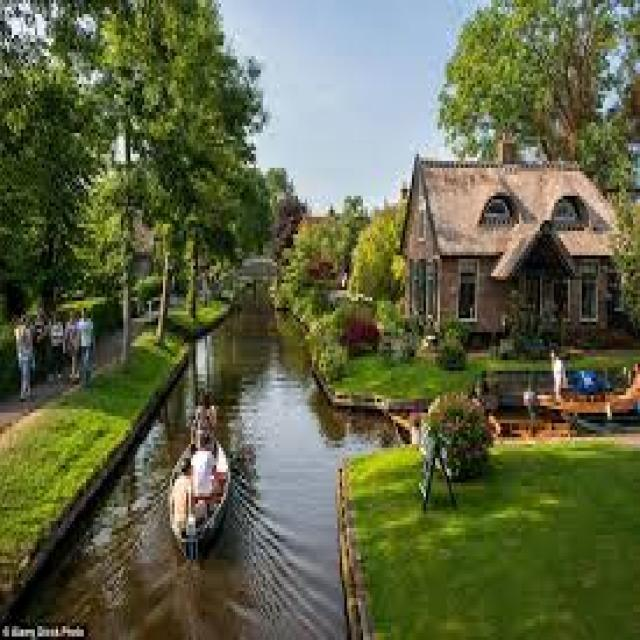ship2: (167, 397, 234, 564)
